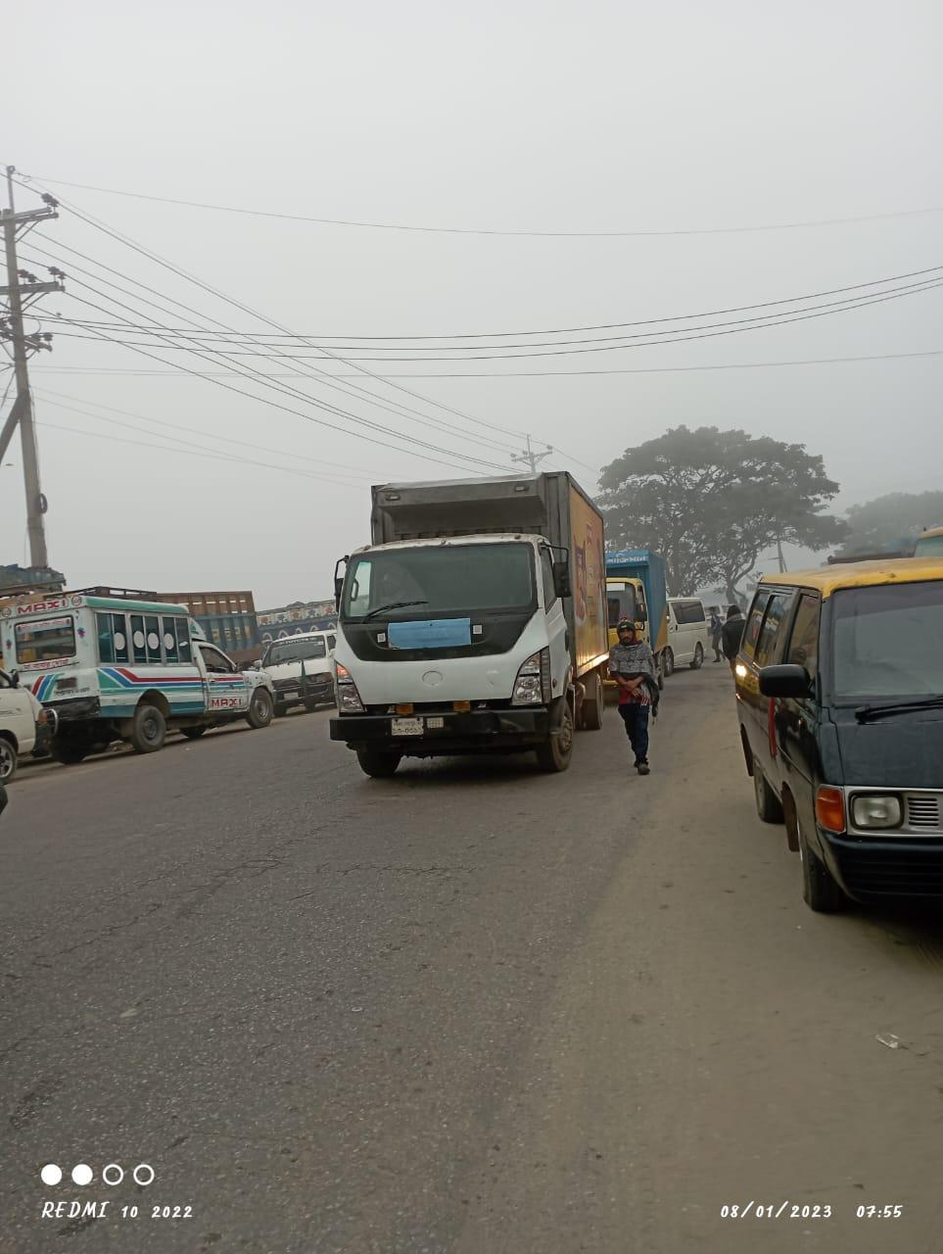Car: (738, 554, 943, 922), (14, 589, 272, 749)
Truck: (298, 467, 611, 756), (597, 545, 674, 681)
